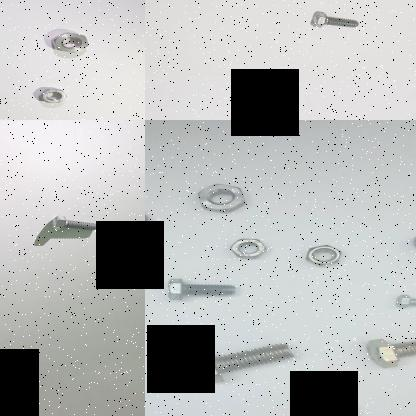Bolts: (173, 336, 301, 392), (157, 271, 242, 305), (360, 327, 416, 369), (302, 11, 363, 34), (47, 214, 100, 233), (389, 294, 416, 314)
NUTS: (186, 174, 250, 219), (298, 395, 361, 416), (296, 242, 346, 268), (221, 238, 272, 262), (48, 30, 90, 56), (32, 86, 70, 106)
